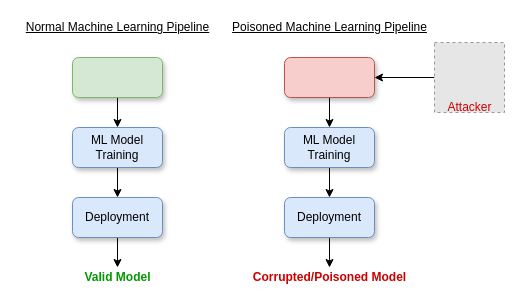
This 522x304 diagram has some shape labels left out. Grey dashed boxes stand in for pictures. The centre of each missing label's shape, as x and y in pixels:
Poisoned Train Data Set: point 330,78
Train Data Set: point 118,78
